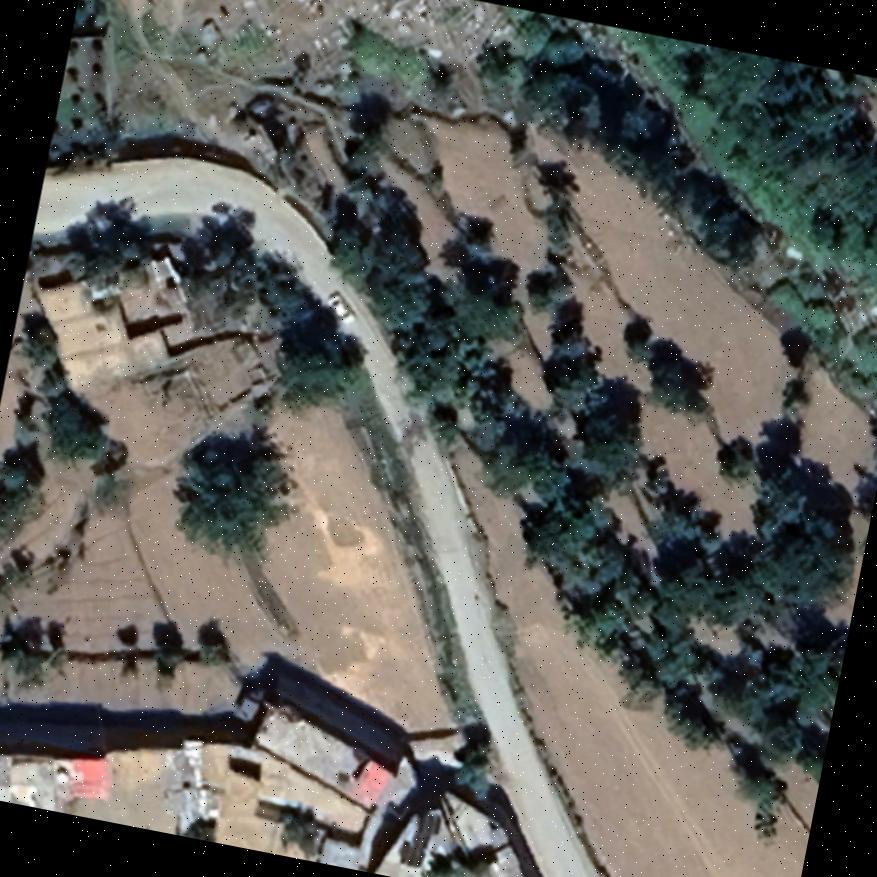Solarpanel: (396, 805, 442, 872)
